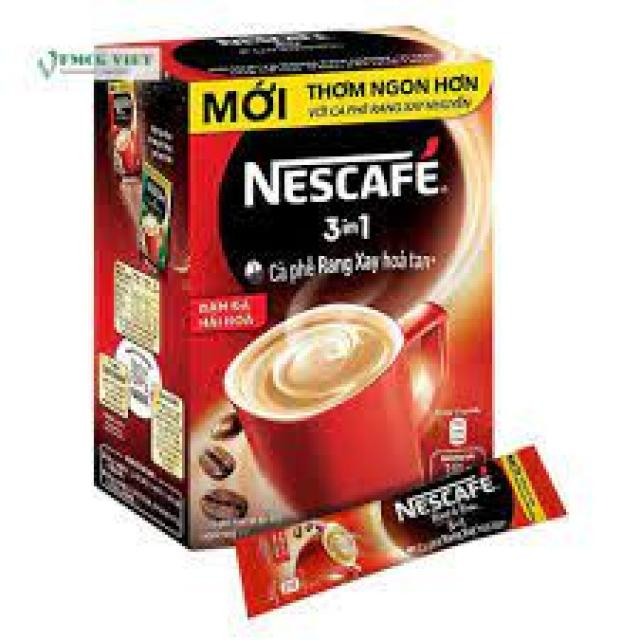Coffee: (85, 28, 495, 555)
